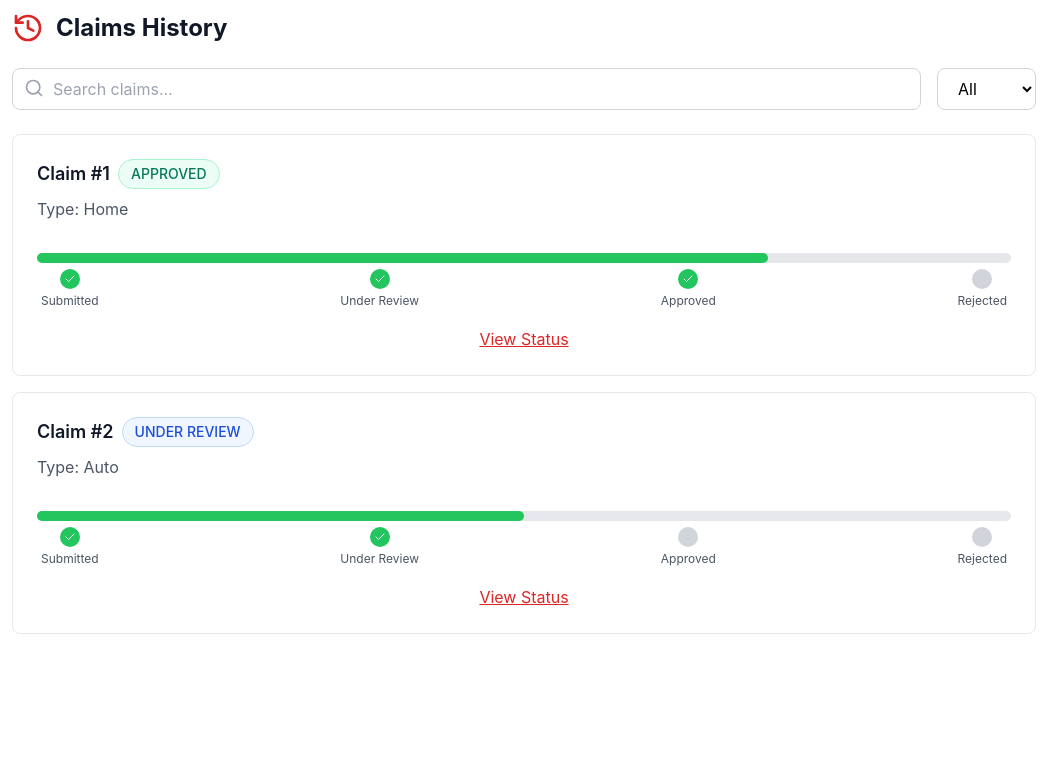
Test case: ClaimHistory Component › allows searching claims by type or ID
Note: Search by claim type
Type "car accident" into the field with placeholder "Search claims..." at coordinates (466, 89), box [12,68,921,110]
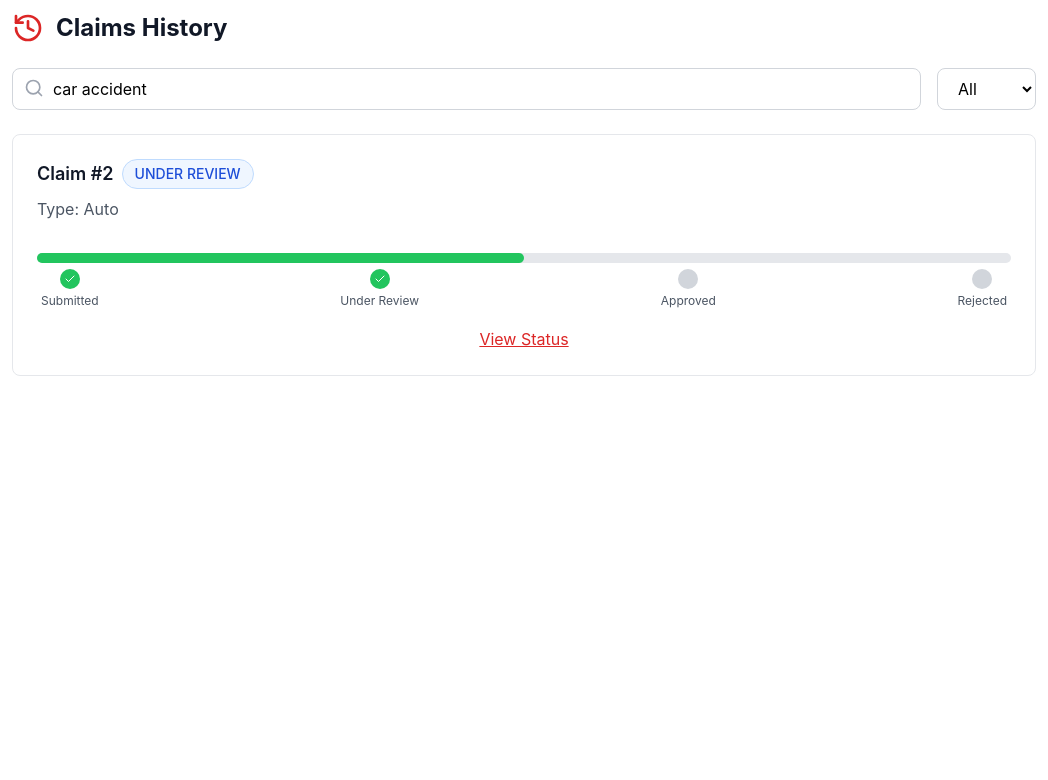
Expected: the number of buttons "View Status" is 1, [479,327,569,351]
